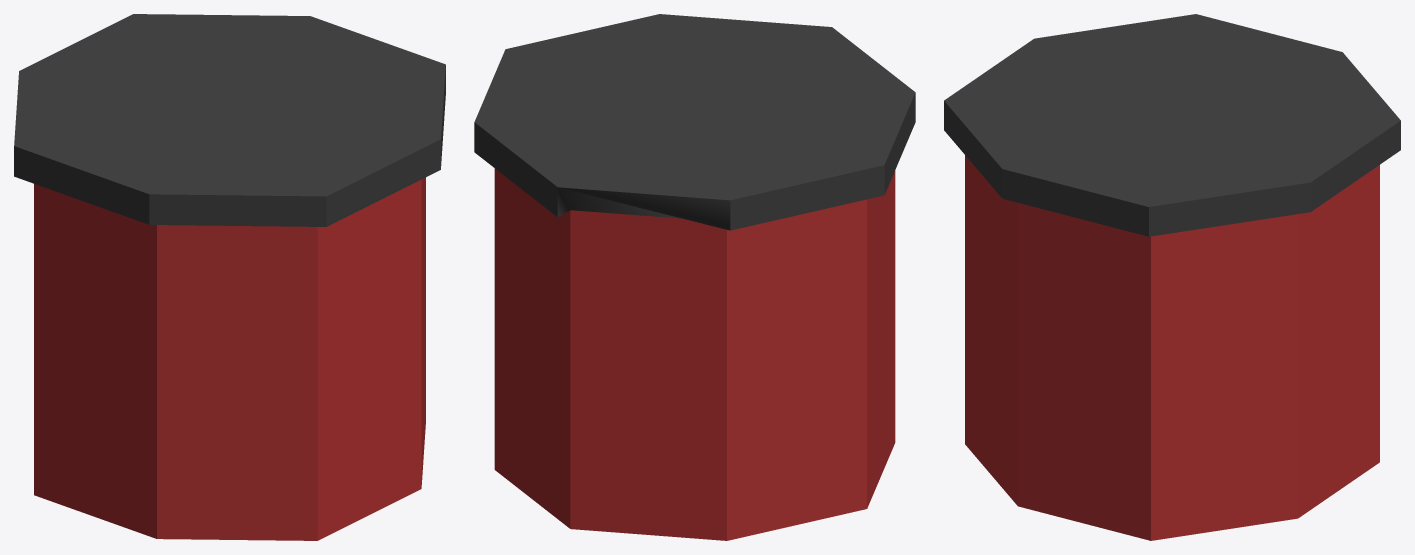
Rendered from Jar_2.fbx.
The picture shows the model from 3 angles, left to right: view 1: azimuth 30°, elevation 25°; view 2: azimuth 150°, elevation 25°; view 3: azimuth 270°, elevation 25°; orthographic projection. The views are drawn at different scales.
Parts seen in each view (by area): view 1: Jar_2; view 2: Jar_2; view 3: Jar_2.
Part boxes in pixels (x1,y1,x2,y2): Jar_2: (14, 14, 445, 540); Jar_2: (474, 14, 915, 540); Jar_2: (944, 14, 1400, 540).
Size of the model in its own units: 29.11 by 29.11 by 24.09.
